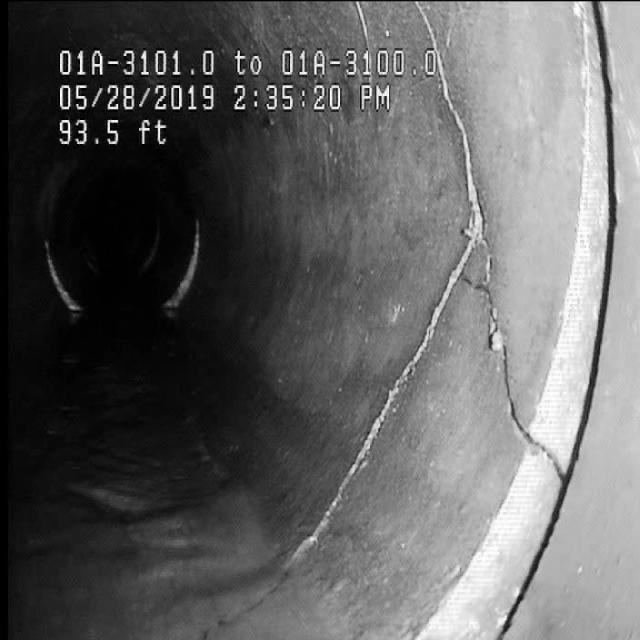Fracture: (330, 152, 586, 561)
